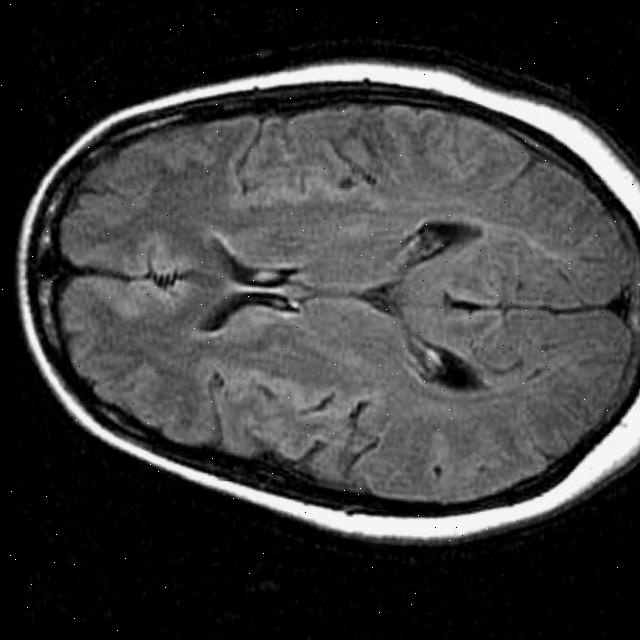NoTumor: (1, 30, 640, 566)
